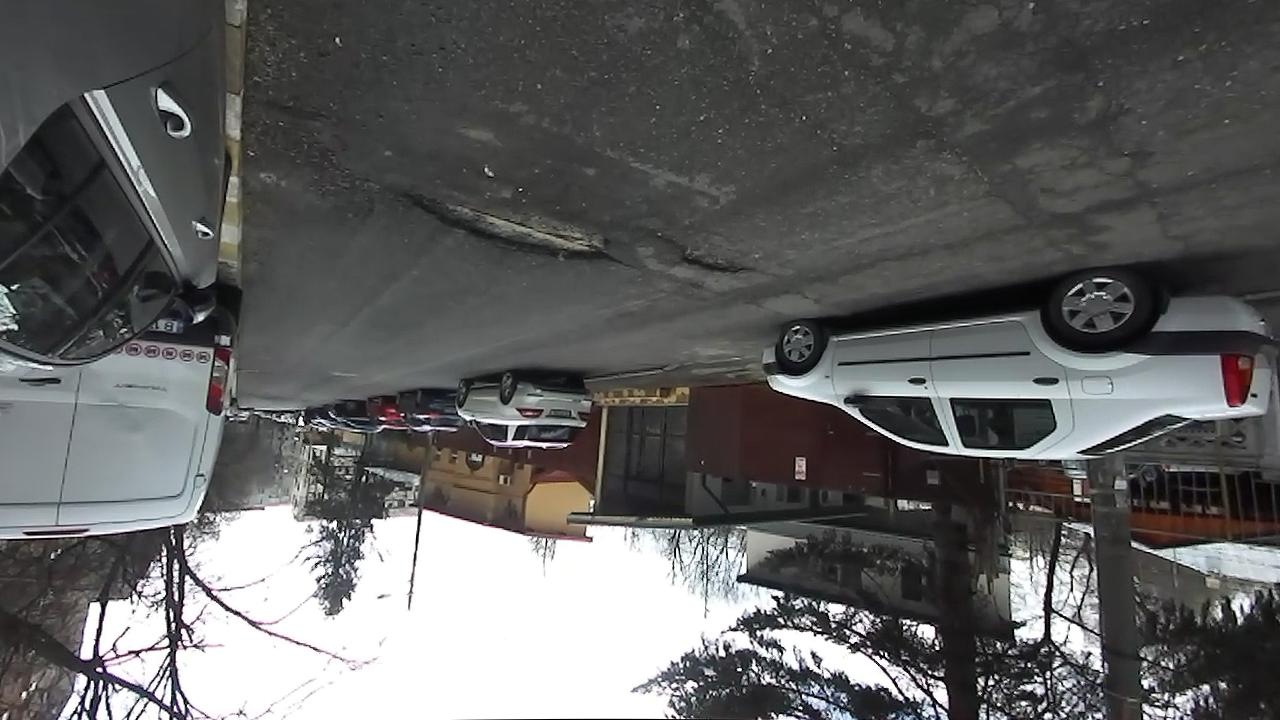pothole: (389, 181, 637, 273), (649, 231, 754, 281)
